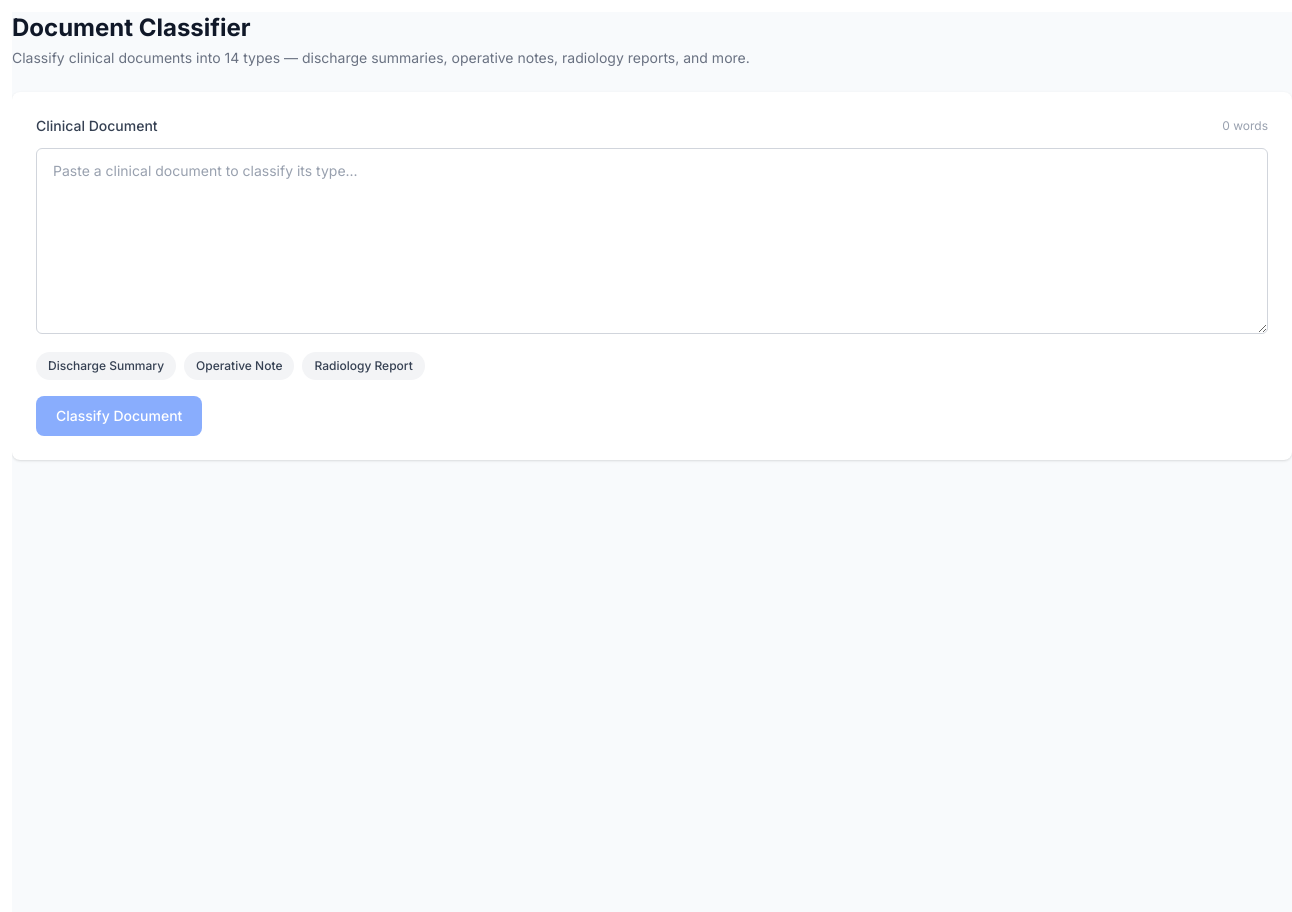
DocumentClassifier › API integration › displays predicted document type
Type "test" into the text box with placeholder "Paste a clinical document to classify its type...". click: (652, 241)
box: [36,148,1268,334]
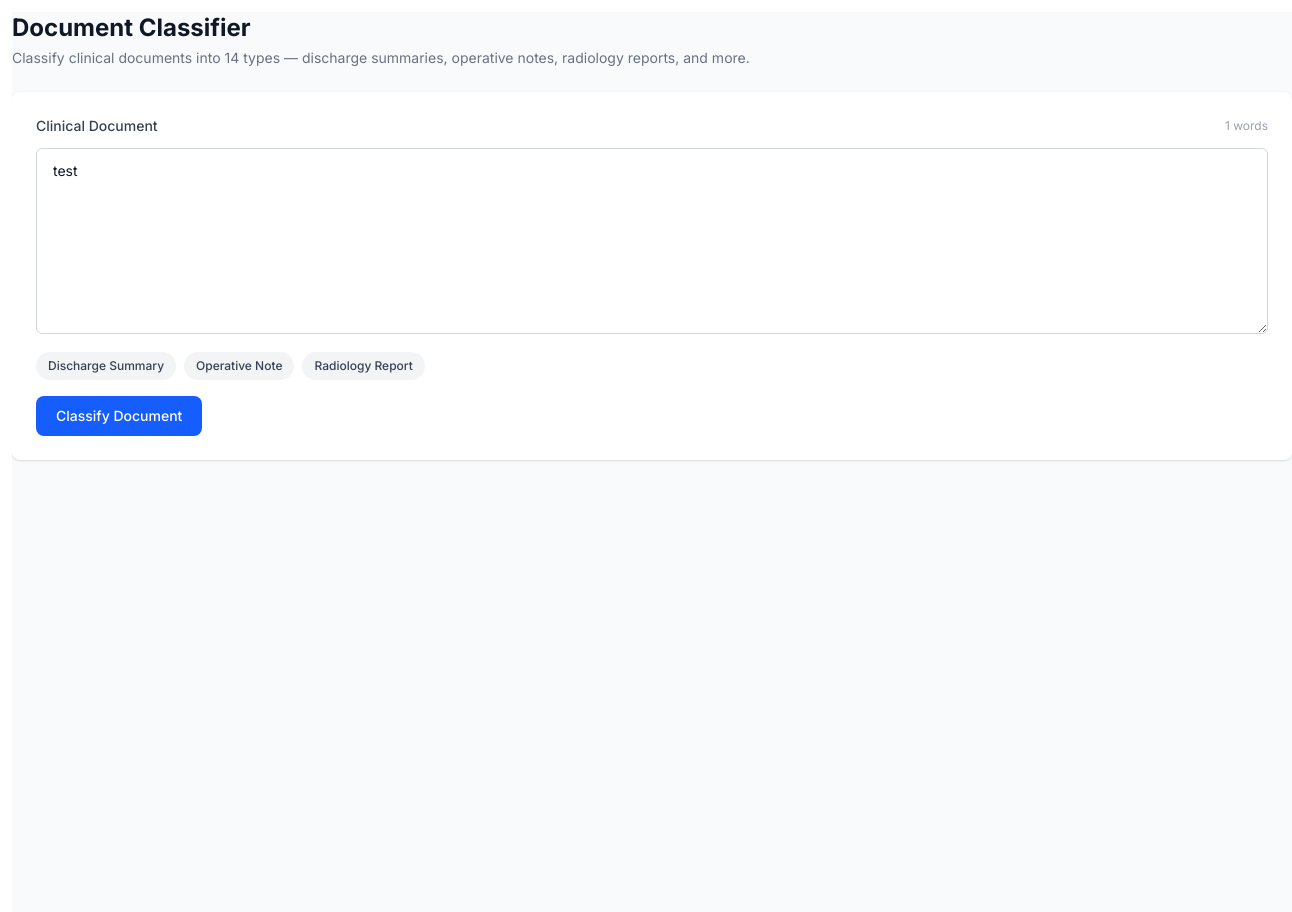
Click the button "Classify Document". click: (119, 416)
box: [36,396,202,436]
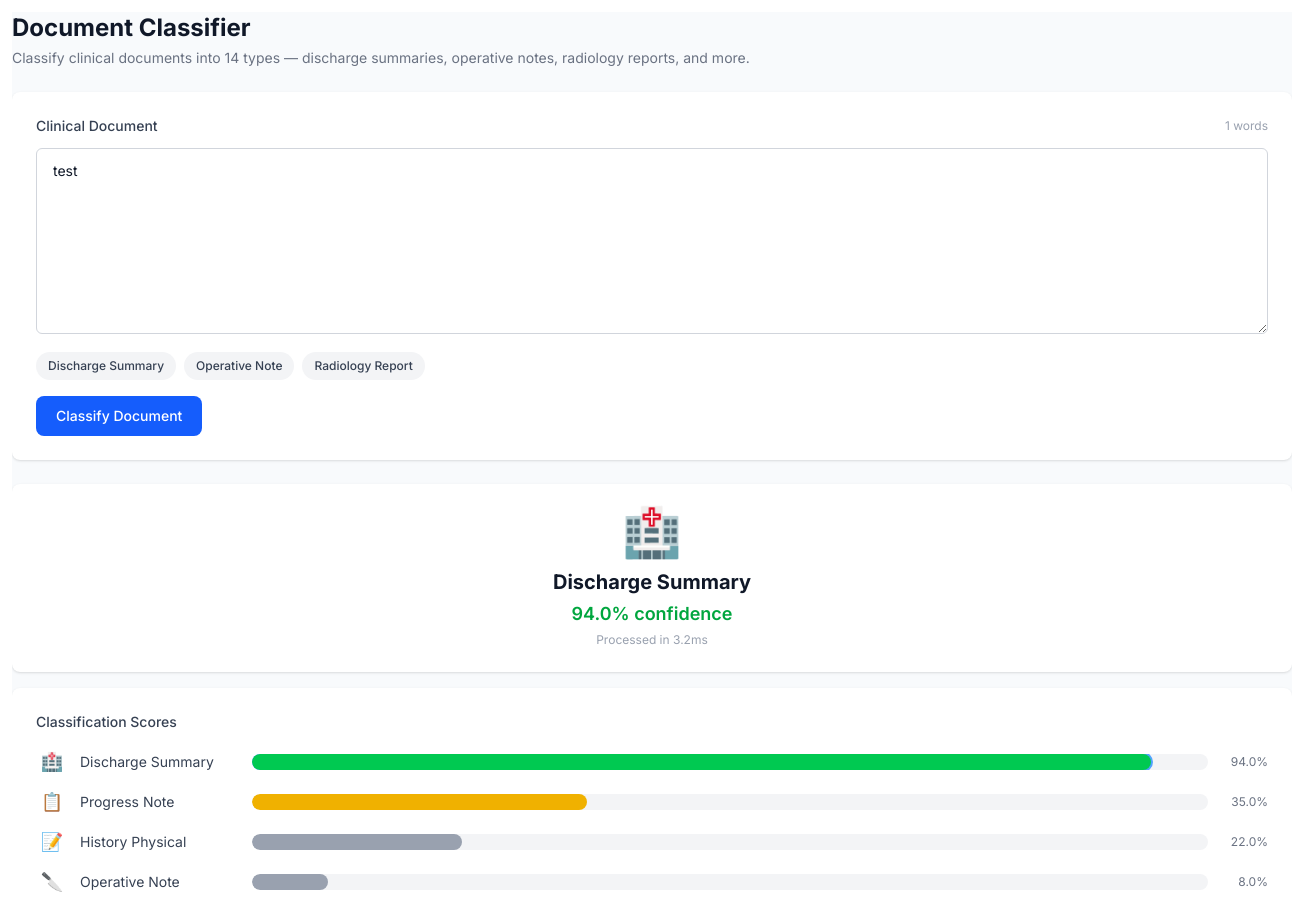
Now the heading "discharge summary" is shown, box [553,570,751,594]
